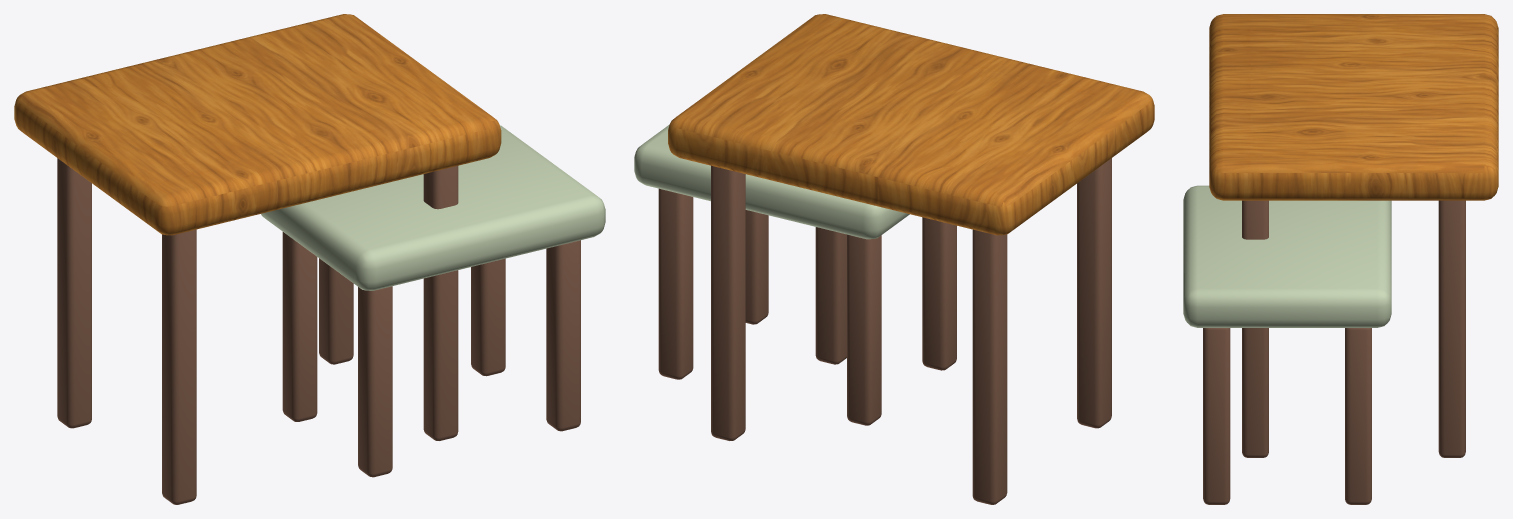
Rendered from nesting-tables.glb.
3 views of the same model, side by side, from view 1: azimuth 30°, elevation 25°; view 2: azimuth 150°, elevation 25°; view 3: azimuth 270°, elevation 25° (orthographic). The views are drawn at different scales.
Parts seen in each view (by area): view 1: nesting-tables; view 2: nesting-tables; view 3: nesting-tables.
Part boxes in pixels (x1,y1,x2,y2): nesting-tables: (14, 14, 605, 504); nesting-tables: (634, 14, 1154, 504); nesting-tables: (1183, 14, 1498, 504).
Size of the model in its own units: 0.7832 by 0.56 by 0.5228.
3 materials, 1 textured.
